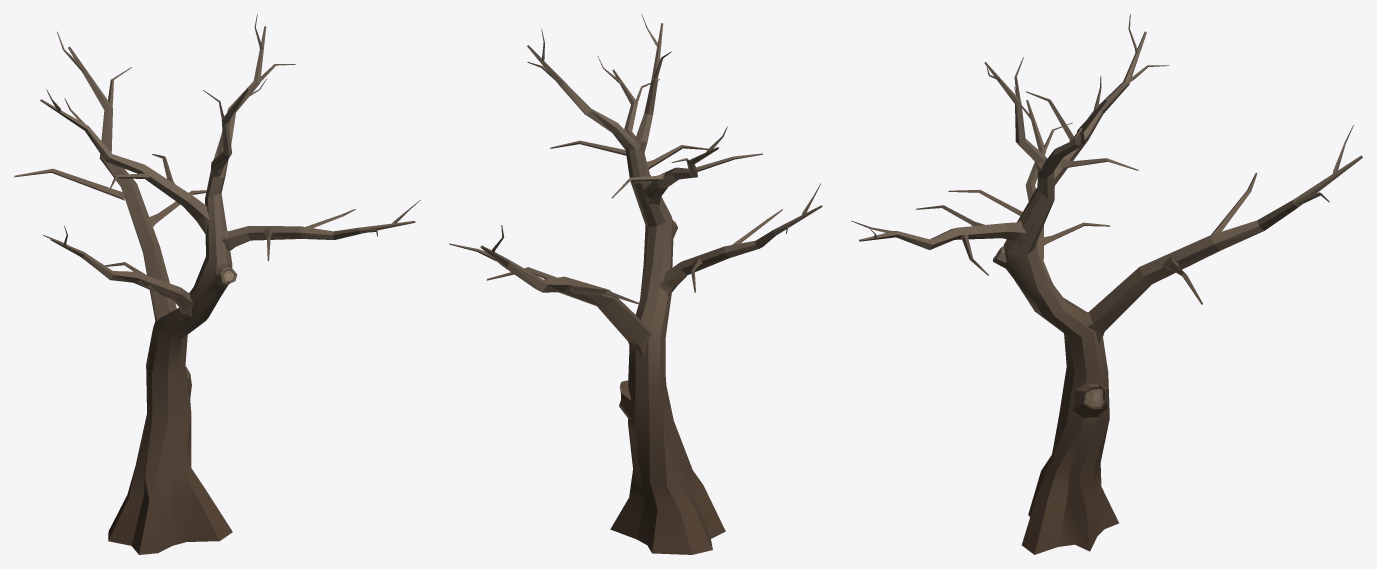
Rendered from PT_Fruit_Tree_01_dead.glb.
The picture shows the model from 3 angles, left to right: view 1: azimuth 30°, elevation 25°; view 2: azimuth 150°, elevation 25°; view 3: azimuth 270°, elevation 25°; orthographic projection. The views are drawn at different scales.
Visible parts, largest first — view 1: PT_Fruit_Tree_01_dead_LOD0; view 2: PT_Fruit_Tree_01_dead_LOD0; view 3: PT_Fruit_Tree_01_dead_LOD0.
Boxes of the visible parts, x1=… form: PT_Fruit_Tree_01_dead_LOD0: x1=14, y1=14, x2=420, y2=554; PT_Fruit_Tree_01_dead_LOD0: x1=449, y1=14, x2=822, y2=554; PT_Fruit_Tree_01_dead_LOD0: x1=851, y1=14, x2=1362, y2=554.
Size of what is drawn, in the model's own units: 3.56 by 5.53 by 5.05.
Materials: 1 (1 with a texture image).
